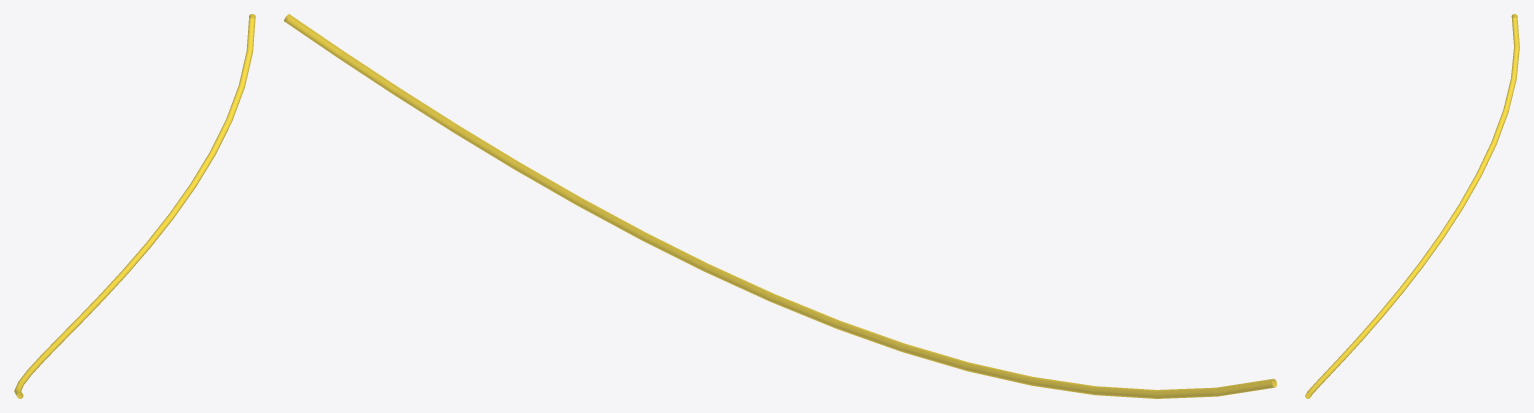
Rendered from Event_402970704_track_50.fbx.
3 renders of one model, left to right at view 1: azimuth 90°, elevation 25°; view 2: azimuth 150°, elevation 25°; view 3: azimuth 270°, elevation 25°, orthographic. The views are drawn at different scales.
Visible parts, largest first — view 1: Model; view 2: Model; view 3: Model.
Part boxes in pixels (<box>): Model: <box>14,14,255,398</box>; Model: <box>284,14,1276,398</box>; Model: <box>1305,14,1519,398</box>.
Bounding box in the file's own units: 5.86 × 0.576 × 1.48.
